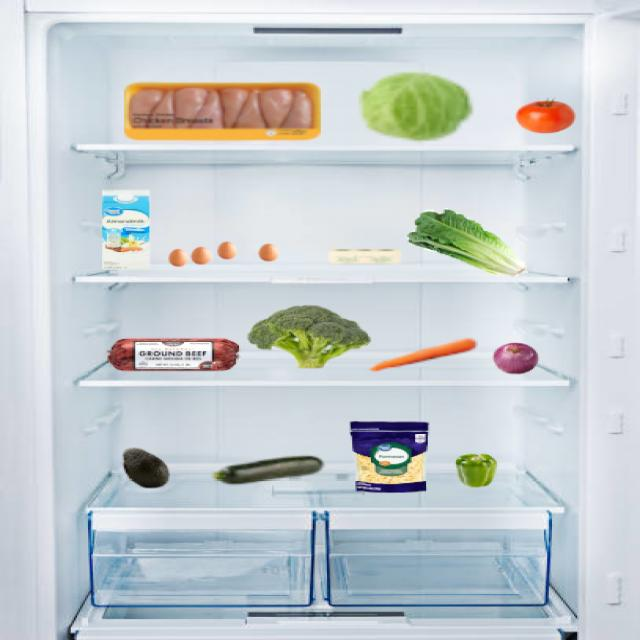avocado: (118, 444, 175, 491)
beef: (107, 335, 241, 374)
bell pepper: (454, 452, 500, 489)
broccoli: (246, 304, 370, 371)
butter: (327, 244, 403, 266)
cabbage: (360, 71, 472, 141)
carrot: (370, 334, 480, 374)
cheese: (348, 416, 433, 495)
chicken: (120, 81, 320, 143)
egg: (165, 246, 191, 268), (258, 241, 282, 264), (191, 246, 213, 267), (217, 240, 238, 260)
lettuce: (406, 207, 536, 280)
milk: (99, 187, 154, 274)
onion: (493, 339, 541, 374)
tomato: (513, 97, 581, 136)
zucchini: (215, 454, 328, 488)
